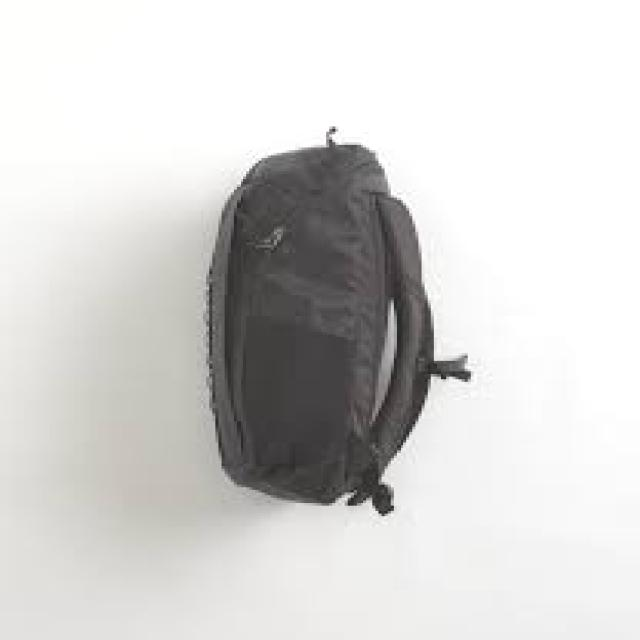backpack: (204, 125, 472, 515)
